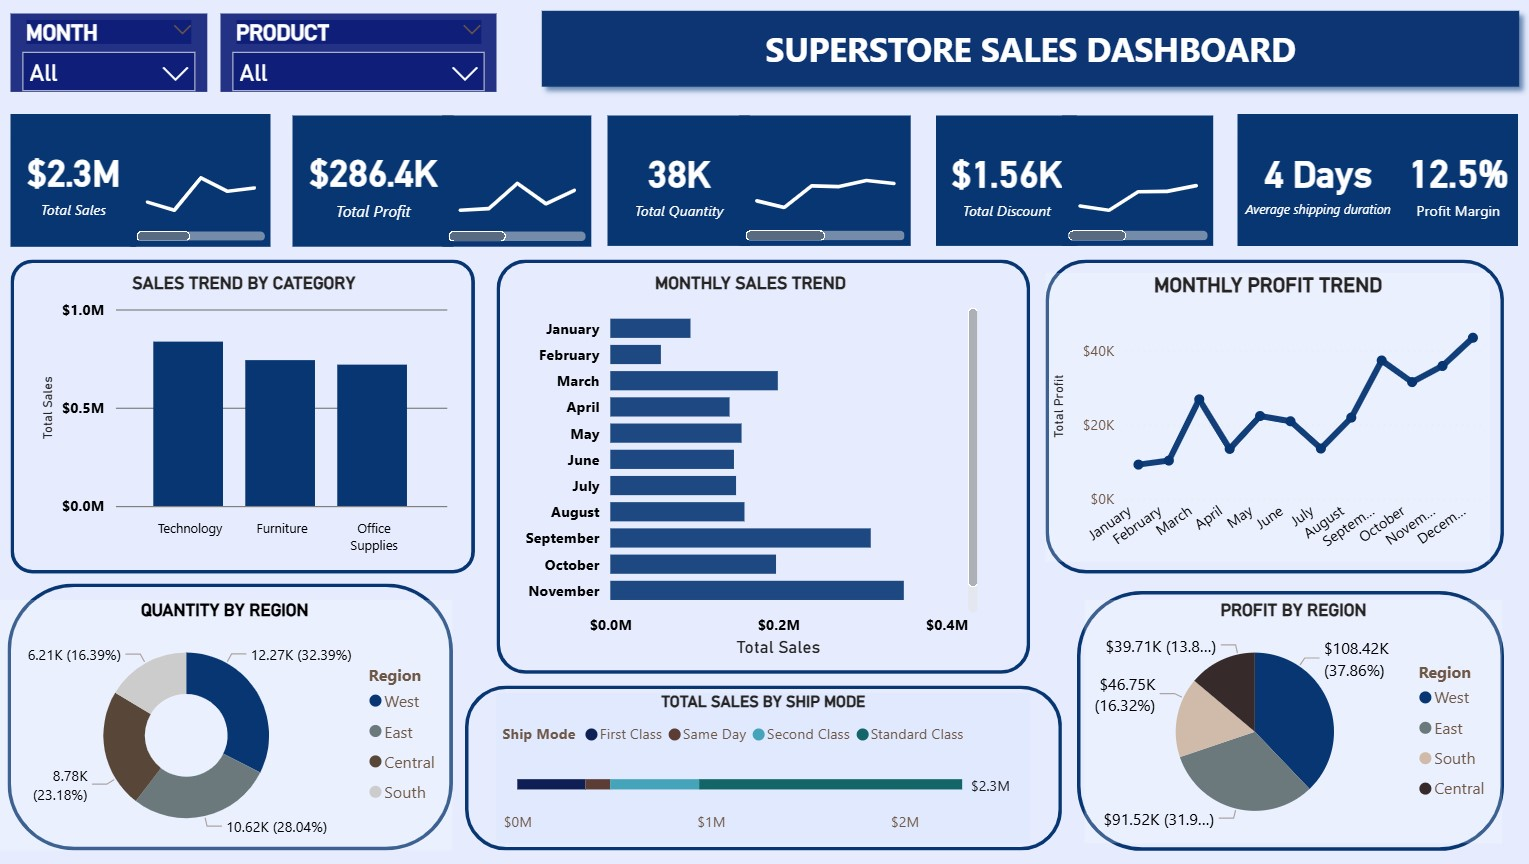

What the dashboard file says about the page in this screenshot:
{"tool":"powerbi","page":{"name":"Page 1","canvas":[1280,720],"ordinal":0},"visuals":[{"type":"card","fields":{"Values":["Orders.Total Sales"]},"box":[13.5,94.6,104.4,110.6],"z":0},{"type":"card","fields":{"Values":["Orders.Total Profit"]},"box":[248.2,95.8,133.9,109.4],"z":1000},{"type":"card","fields":{"Values":["Orders.Total Discount"]},"box":[785,96.2,117.5,108.8],"z":2000},{"type":"shape","box":[13.5,216.2,387,261.7],"z":3000},{"type":"columnChart","title":"SALES TREND BY CATEGORY","fields":{"Category":["Orders.Category"],"Y":["Orders.Total Sales"]},"box":[33.2,227.3,348.9,240.8],"z":4000},{"type":"shape","box":[876,216.2,382.1,261.7],"z":5000},{"type":"card","fields":{"Values":["Orders.Average shipping duration"]},"box":[1036.2,95,133.8,110],"z":6000},{"type":"shape","box":[447.5,0,832.5,81.2],"z":7000},{"type":"shape","box":[419,216.2,444.8,345.3],"z":8000},{"type":"clusteredBarChart","title":"MONTHLY SALES TREND","fields":{"Category":["Orders.YearMonth"],"Y":["Orders.Total Sales"]},"box":[436.2,227.3,388.3,324.4],"z":9000},{"type":"lineChart","fields":{"Y":["Orders.Total Sales"],"Category":["Orders.MonthName"]},"box":[114.3,94.6,116.7,110.6],"z":10000},{"type":"lineChart","fields":{"Y":["Orders.Total Profit"],"Category":["Orders.MonthName"]},"box":[373.5,95.8,124.1,109.4],"z":11000},{"type":"lineChart","fields":{"Y":["Orders.Total Discount"],"Category":["Orders.MonthName"]},"box":[890,96.2,126.2,108.8],"z":12000},{"type":"shape","box":[11.1,486.6,371.1,222.4],"z":13000},{"type":"donutChart","title":"QUANTITY BY REGION","fields":{"Y":["Orders.Total Quantity"],"Category":["Orders.Region"]},"box":[2.5,500.1,379.7,208.9],"z":14000},{"type":"card","fields":{"Values":["Orders.Profit Margin"]},"box":[1169,95.4,101.5,109],"z":15000},{"type":"shape","box":[391.9,571.3,497.6,137.6],"z":16000},{"type":"barChart","title":"TOTAL SALES BY SHIP MODE","fields":{"Y":["Orders.Total Sales"],"Series":["Orders.Ship Mode"]},"box":[401.3,576.9,475.5,125.7],"z":17000},{"type":"slicer","fields":{"Values":["Orders.MonthName"]},"box":[13.8,11.2,163.8,65],"z":18000},{"type":"slicer","fields":{"Values":["Orders.Product Name"]},"box":[188.8,11.2,230,65],"z":19000},{"type":"shape","box":[902.5,492.1,355.8,216.5],"z":20000},{"type":"card","fields":{"Values":["Orders.Total Quantity"]},"box":[511.2,96.2,118.8,108.8],"z":21000},{"type":"lineChart","fields":{"Y":["Orders.Total Quantity"],"Category":["Orders.MonthName"]},"box":[621.2,96.2,142.5,108.8],"z":22000},{"type":"lineChart","title":"MONTHLY PROFIT TREND","fields":{"Y":["Orders.Total Profit"],"Category":["Orders.MonthName"]},"box":[876.7,227.1,371,240.8],"z":23000},{"type":"pieChart","title":"PROFIT BY REGION","fields":{"Y":["Orders.Total Profit"],"Category":["Orders.Region"]},"box":[908.5,499.7,348.3,202.9],"z":24000}]}

Visuals, with their boxes in screenshot pixels (x1, y1, x2, y2), scaled from the page's 1280x720 canvas onto the 1529x864 screenshot:
card - Orders.Total Sales: BBox(16, 114, 141, 246)
card - Orders.Total Profit: BBox(296, 115, 456, 246)
card - Orders.Total Discount: BBox(938, 115, 1078, 246)
shape: BBox(16, 259, 478, 573)
"SALES TREND BY CATEGORY" columnChart: BBox(40, 273, 456, 562)
shape: BBox(1046, 259, 1503, 573)
card - Orders.Average shipping duration: BBox(1238, 114, 1398, 246)
shape: BBox(535, 0, 1528, 97)
shape: BBox(501, 259, 1032, 674)
"MONTHLY SALES TREND" clusteredBarChart: BBox(521, 273, 985, 662)
lineChart - Orders.Total Sales x Orders.MonthName: BBox(137, 114, 276, 246)
lineChart - Orders.Total Profit x Orders.MonthName: BBox(446, 115, 594, 246)
lineChart - Orders.Total Discount x Orders.MonthName: BBox(1063, 115, 1214, 246)
shape: BBox(13, 584, 457, 851)
"QUANTITY BY REGION" donutChart: BBox(3, 600, 457, 851)
card - Orders.Profit Margin: BBox(1396, 114, 1518, 245)
shape: BBox(468, 686, 1063, 851)
"TOTAL SALES BY SHIP MODE" barChart: BBox(479, 692, 1047, 843)
slicer - Orders.MonthName: BBox(16, 13, 212, 91)
slicer - Orders.Product Name: BBox(226, 13, 500, 91)
shape: BBox(1078, 591, 1503, 850)
card - Orders.Total Quantity: BBox(611, 115, 753, 246)
lineChart - Orders.Total Quantity x Orders.MonthName: BBox(742, 115, 912, 246)
"MONTHLY PROFIT TREND" lineChart: BBox(1047, 273, 1490, 561)
"PROFIT BY REGION" pieChart: BBox(1085, 600, 1501, 843)
